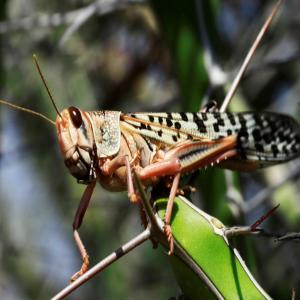locust: (23, 71, 300, 236)
